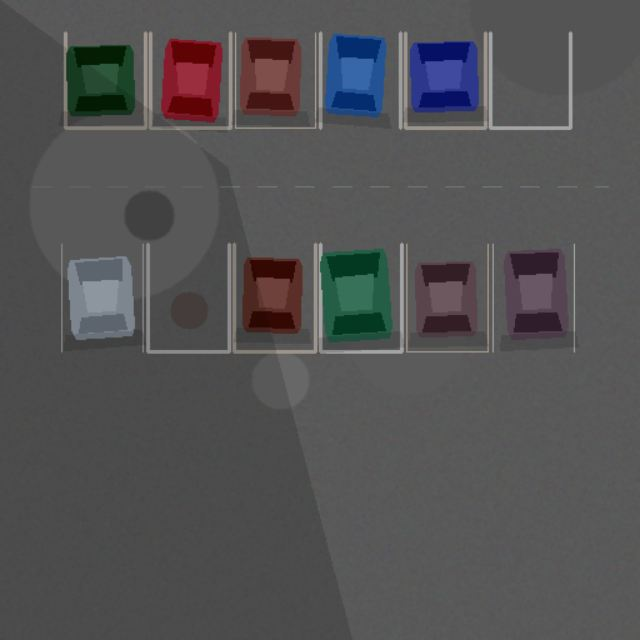space-empty: (147, 244, 229, 351), (490, 32, 570, 128)
space-occupied: (61, 244, 143, 351), (234, 244, 315, 351), (320, 244, 401, 351), (406, 244, 487, 351), (493, 244, 574, 351), (65, 32, 145, 128), (150, 32, 230, 128), (235, 32, 315, 128), (320, 32, 400, 128), (405, 32, 485, 128)
